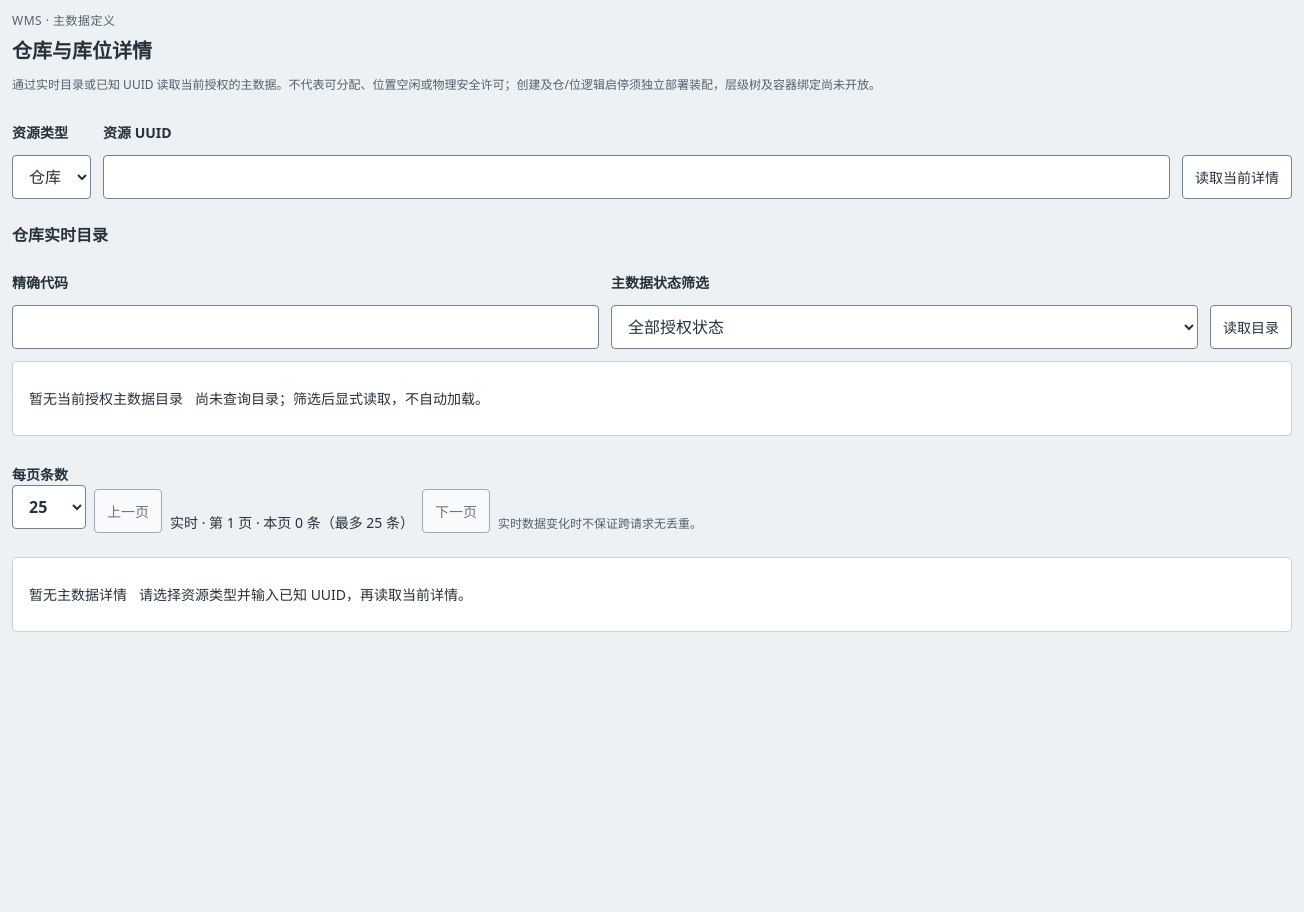
Scenario: reads only after explicit submit and renders safe disabled warehouse details without write actions
In the field named "resourceId": (636,177) [103,155,1170,199], type "77966ccd-f1dd-412d-8e45-adb475608842"
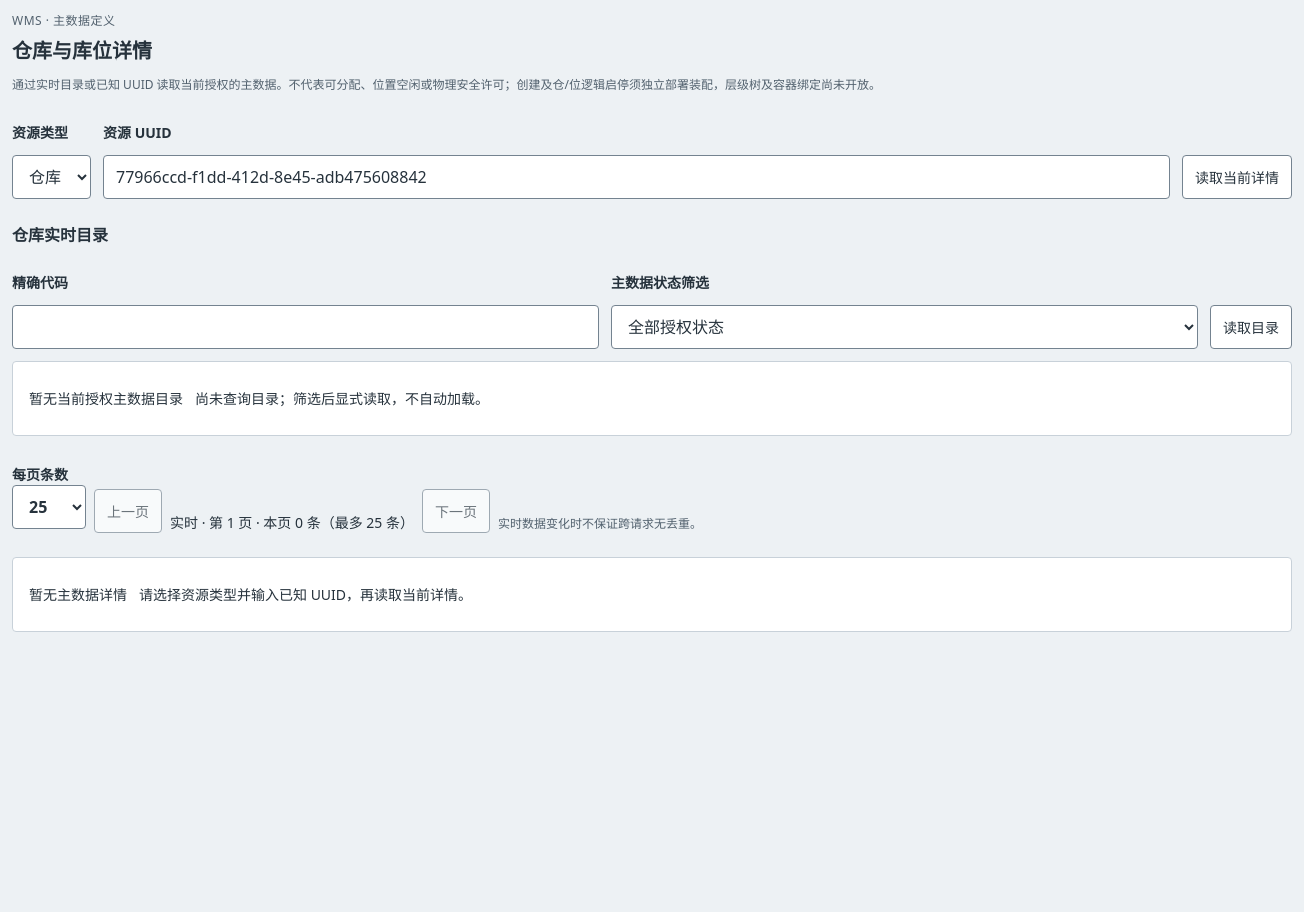
Submit the form "资源类型 资源 UUID 读取当前详情", box [12,110,1292,199]
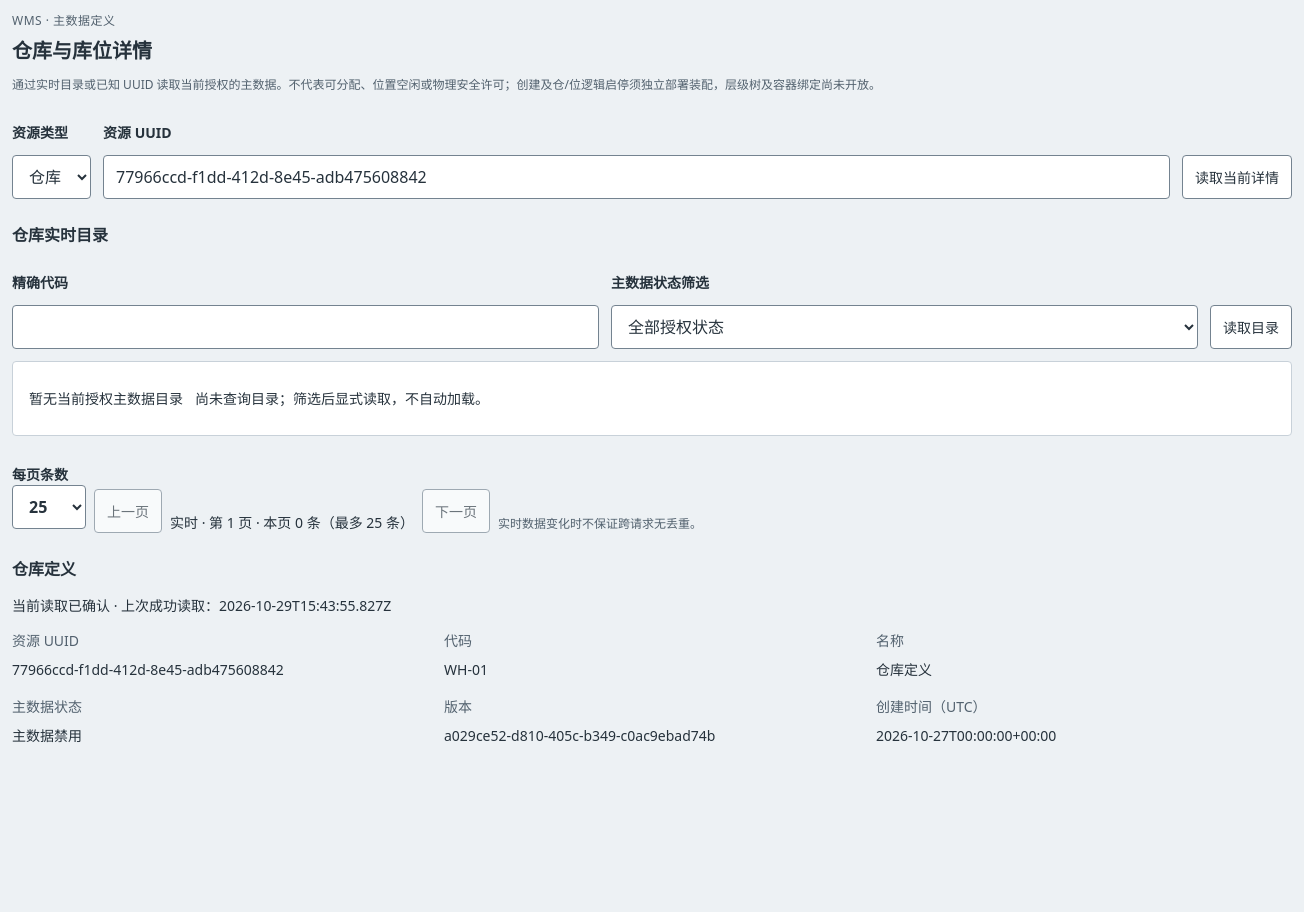
Result: the element with test id "master-data-details" shows "仓库定义" at [12,558,76,580]
Result: the element with test id "master-data-details" shows "a029ce52-d810-405c-b349-c0ac9ebad74b" at [444,726,716,745]
Result: the element with test id "master-data-details" shows "主数据禁用" at [12,726,82,745]
